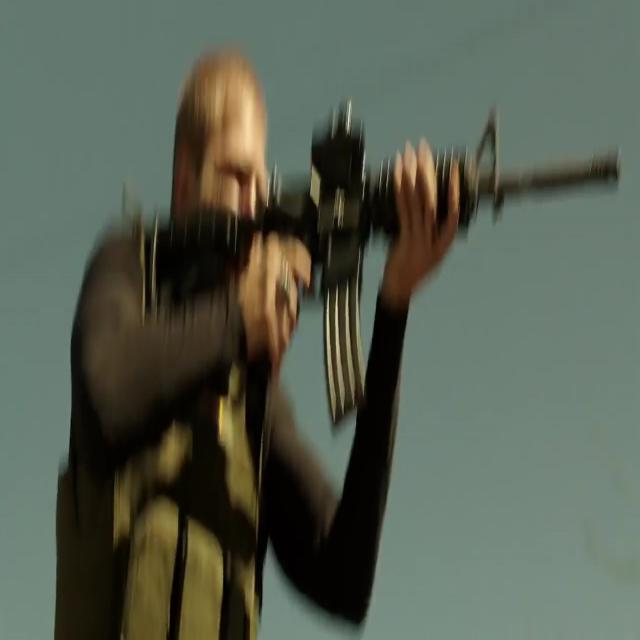Weapon: (127, 140, 606, 401)
